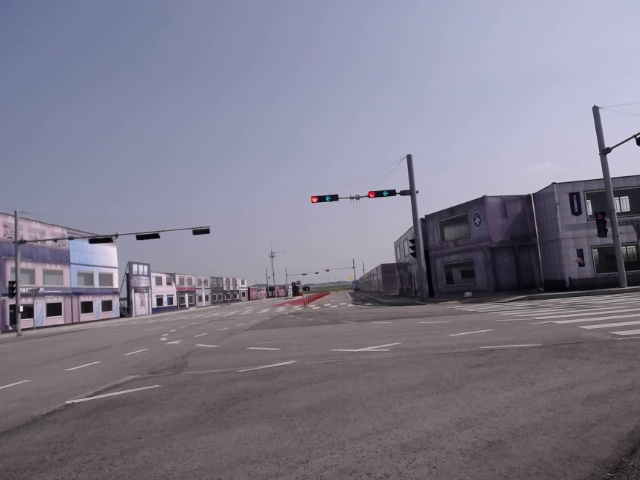left_green_4: (311, 194, 339, 203), (369, 189, 395, 198)
